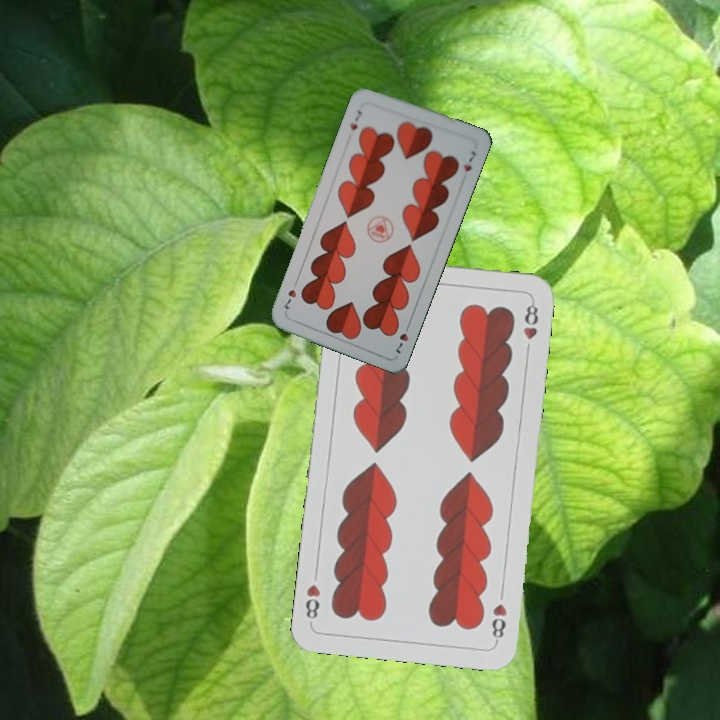H7: (392, 318, 413, 357), (346, 106, 365, 133)
H8: (488, 599, 510, 645)
